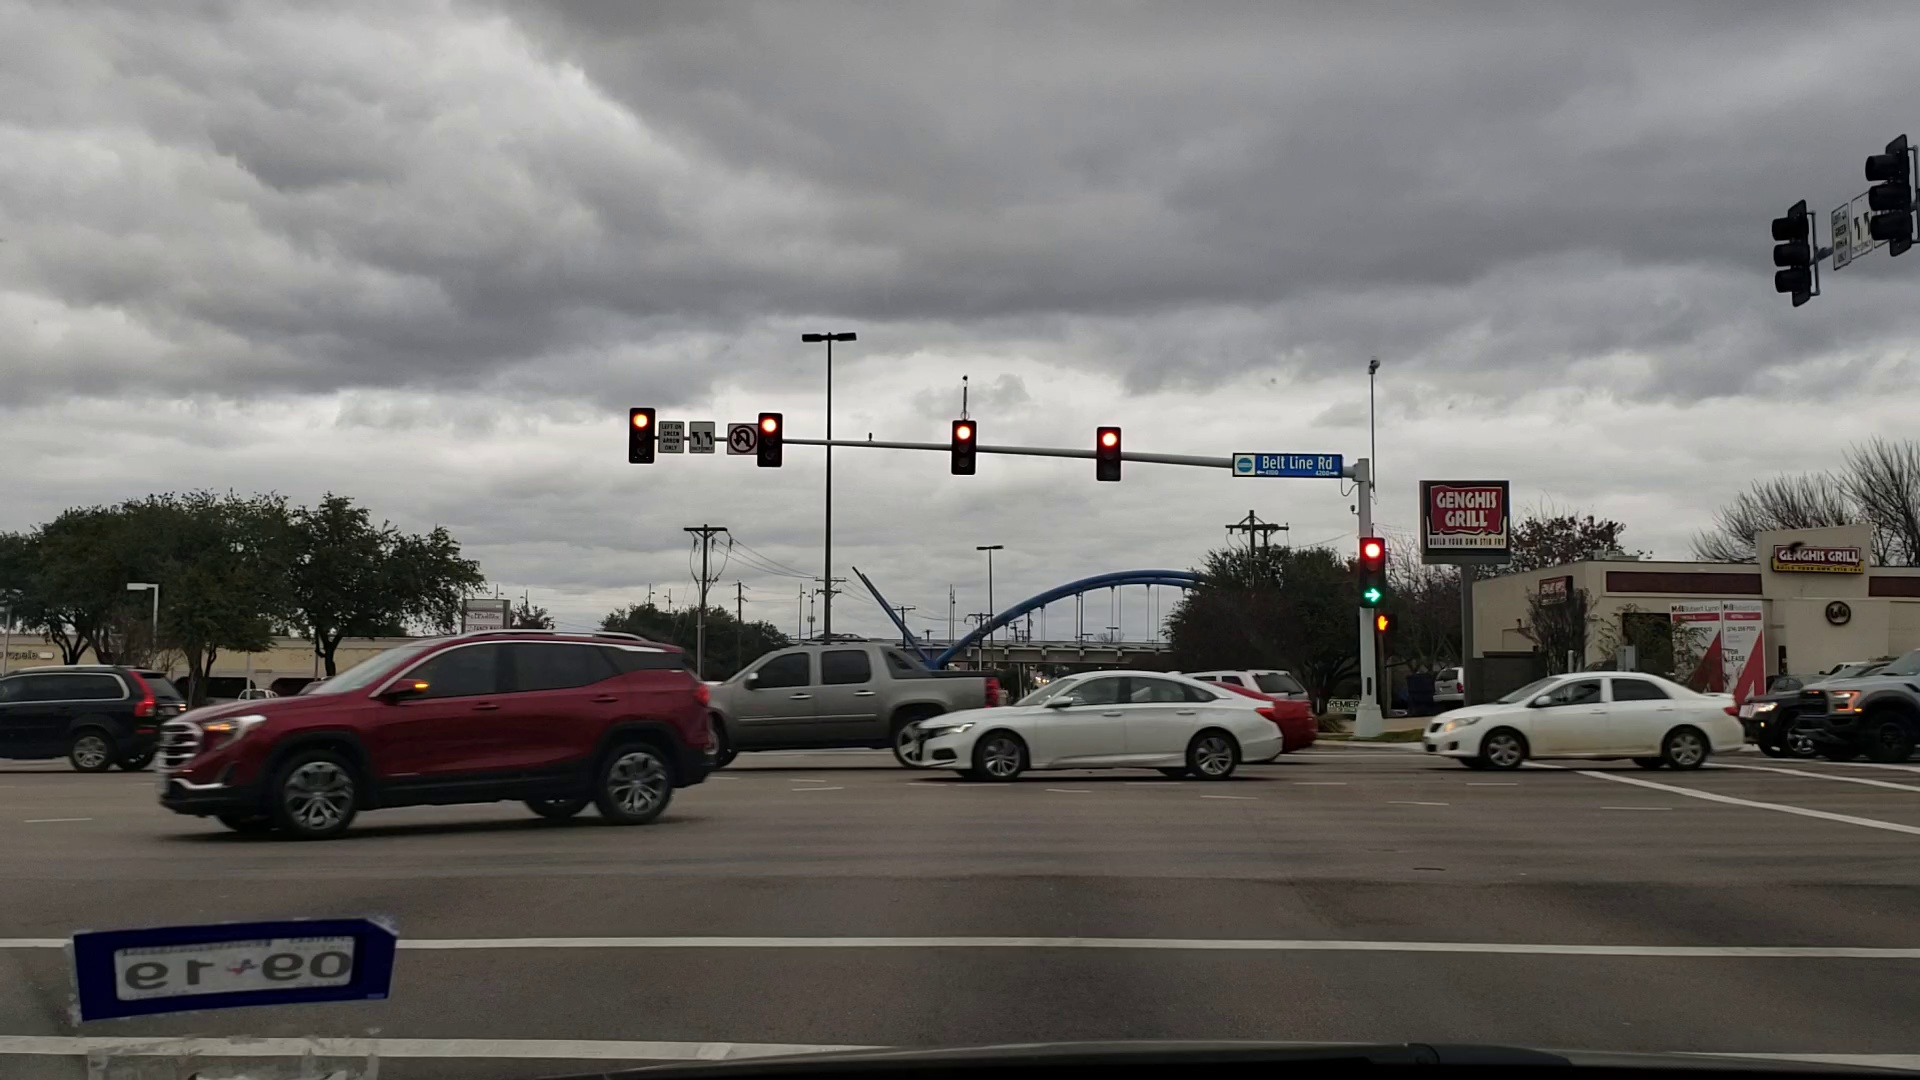car: (148, 632, 719, 835), (916, 671, 1288, 789), (1422, 667, 1738, 777), (4, 655, 193, 774), (1805, 658, 1920, 758), (1742, 654, 1815, 764)
traffic light: (1774, 211, 1816, 297), (1869, 146, 1896, 255), (629, 404, 659, 459), (953, 419, 982, 473), (1360, 535, 1381, 608), (760, 411, 779, 463), (1096, 426, 1116, 477)
truck: (698, 634, 1004, 761)
